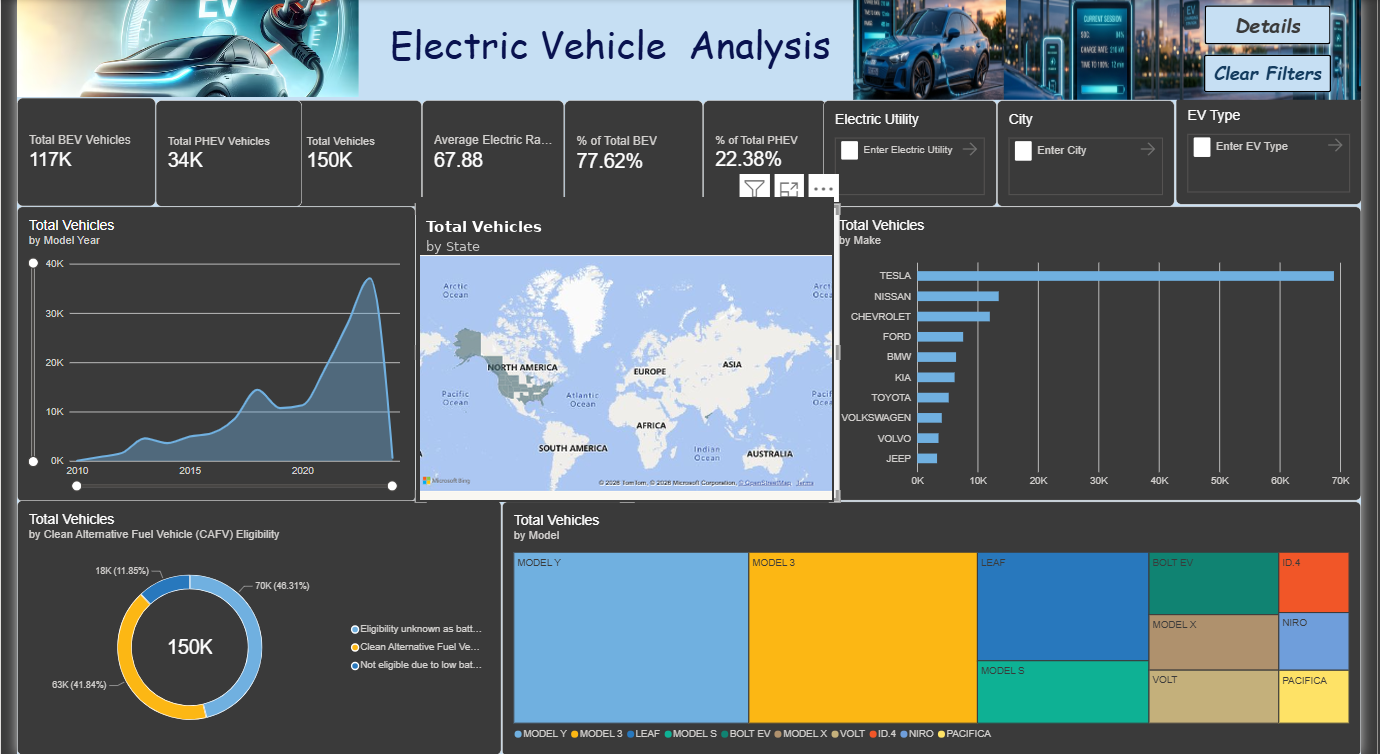

The page's visual inventory and layout, read from the dashboard file:
{"tool":"powerbi","page":{"name":"DashBoard Page","canvas":[1920,1080],"ordinal":0},"visuals":[{"type":"cardVisual","fields":{"Data":["Electric_Vehicle_Population_Data.Total Vehicles"]},"box":[396,144,182.7,152.3],"z":0},{"type":"cardVisual","fields":{"Data":["Electric_Vehicle_Population_Data.Average Electric Range"]},"box":[578.6,144.1,203,150.2],"z":1000},{"type":"cardVisual","fields":{"Data":["Electric_Vehicle_Population_Data.Total BEV Vehicles"]},"box":[0,140.5,198.3,155.6],"z":2000},{"type":"cardVisual","fields":{"Data":["Electric_Vehicle_Population_Data.% of Total BEV"]},"box":[781.6,144.1,198.9,152.3],"z":3000},{"type":"cardVisual","fields":{"Data":["Electric_Vehicle_Population_Data.Total PHEV Vehicles"]},"box":[198.9,144.1,209.1,152.3],"z":4000},{"type":"cardVisual","fields":{"Data":["Electric_Vehicle_Population_Data.% of Total PHEV"]},"box":[980.5,144.1,176.6,150.2],"z":5000},{"type":"areaChart","fields":{"Category":["Electric_Vehicle_Population_Data.Model Year"],"Y":["Electric_Vehicle_Population_Data.Total Vehicles"]},"box":[0,296.2,569.7,421.6],"z":6000},{"type":"clusteredBarChart","fields":{"Category":["Electric_Vehicle_Population_Data.Make"],"Y":["Electric_Vehicle_Population_Data.Total Vehicles"]},"box":[1157.1,296.4,763.3,420.2],"z":7000},{"type":"donutChart","fields":{"Category":["Electric_Vehicle_Population_Data.Clean Alternative Fuel Vehicle (CAFV) Eligibility"],"Y":["Electric_Vehicle_Population_Data.Total Vehicles"]},"box":[0,716.6,692.1,364.4],"z":8000},{"type":"treemap","fields":{"Group":["Electric_Vehicle_Population_Data.Model"],"Values":["Electric_Vehicle_Population_Data.Total Vehicles"]},"box":[692.7,717.8,1227.3,363.9],"z":9000},{"type":"textSlicer","fields":{"Values":["Electric_Vehicle_Population_Data.City"]},"box":[1400.7,144.1,253.8,152.3],"z":10000},{"type":"textSlicer","fields":{"Values":["Electric_Vehicle_Population_Data.Electric Utility"]},"box":[1152,144,247.7,152.3],"z":11000},{"type":"textSlicer","fields":{"Values":["Electric_Vehicle_Population_Data.EV Type"]},"box":[1654.5,140.1,265.9,154.3],"z":12000},{"type":"filledMap","fields":{"Category":["Electric_Vehicle_Population_Data.State"],"Y":["Electric_Vehicle_Population_Data.Total Vehicles"]},"box":[569.7,293.6,604.9,424.2],"z":13000},{"type":"textbox","box":[436,26,840,114],"z":15500},{"type":"image","box":[0,0,488,140],"z":15502},{"type":"image","box":[1194,0,726,144],"z":15503},{"type":"actionButton","box":[1688,72,198,70],"z":15504},{"type":"actionButton","box":[1688,0,198,74],"z":15505}]}

Visuals, with their boxes in screenshot pixels (x1, y1, x2, y2), scaled from the page's 1920x1080 canvas onto the 1380x754 screenshot:
cardVisual - Electric_Vehicle_Population_Data.Total Vehicles: bbox(285, 101, 416, 207)
cardVisual - Electric_Vehicle_Population_Data.Average Electric Range: bbox(416, 101, 562, 205)
cardVisual - Electric_Vehicle_Population_Data.Total BEV Vehicles: bbox(0, 98, 143, 207)
cardVisual - Electric_Vehicle_Population_Data.% of Total BEV: bbox(562, 101, 705, 207)
cardVisual - Electric_Vehicle_Population_Data.Total PHEV Vehicles: bbox(143, 101, 293, 207)
cardVisual - Electric_Vehicle_Population_Data.% of Total PHEV: bbox(705, 101, 832, 205)
areaChart - Electric_Vehicle_Population_Data.Model Year x Electric_Vehicle_Population_Data.Total Vehicles: bbox(0, 207, 409, 501)
clusteredBarChart - Electric_Vehicle_Population_Data.Make x Electric_Vehicle_Population_Data.Total Vehicles: bbox(832, 207, 1379, 500)
donutChart - Electric_Vehicle_Population_Data.Clean Alternative Fuel Vehicle (CAFV) Eligibility x Electric_Vehicle_Population_Data.Total Vehicles: bbox(0, 500, 497, 753)
treemap - Electric_Vehicle_Population_Data.Model x Electric_Vehicle_Population_Data.Total Vehicles: bbox(498, 501, 1379, 753)
textSlicer - Electric_Vehicle_Population_Data.City: bbox(1007, 101, 1189, 207)
textSlicer - Electric_Vehicle_Population_Data.Electric Utility: bbox(828, 101, 1006, 207)
textSlicer - Electric_Vehicle_Population_Data.EV Type: bbox(1189, 98, 1379, 206)
filledMap - Electric_Vehicle_Population_Data.State x Electric_Vehicle_Population_Data.Total Vehicles: bbox(409, 205, 844, 501)
textbox: bbox(313, 18, 917, 98)
image: bbox(0, 0, 351, 98)
image: bbox(858, 0, 1379, 101)
actionButton: bbox(1213, 50, 1356, 99)
actionButton: bbox(1213, 0, 1356, 52)
